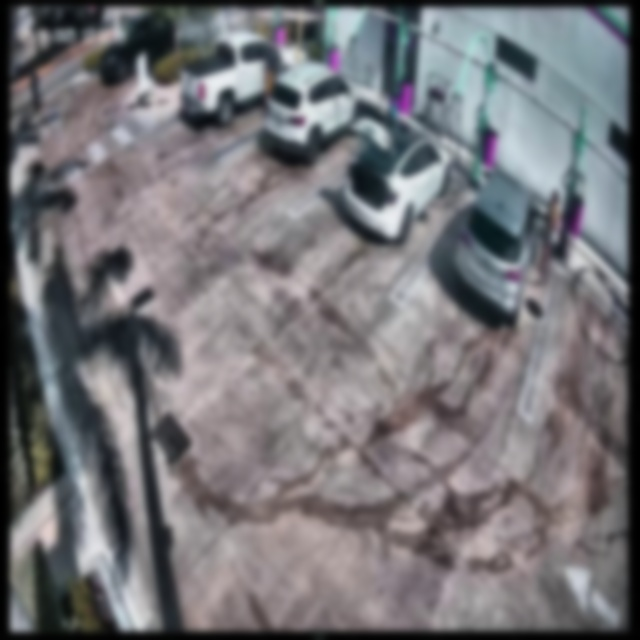Car: (346, 106, 450, 244), (465, 167, 535, 319), (266, 64, 364, 164)
